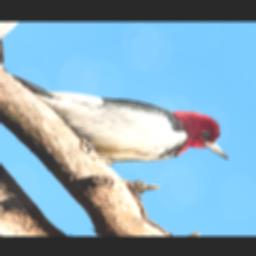Woodpecker: (11, 37, 245, 191)
